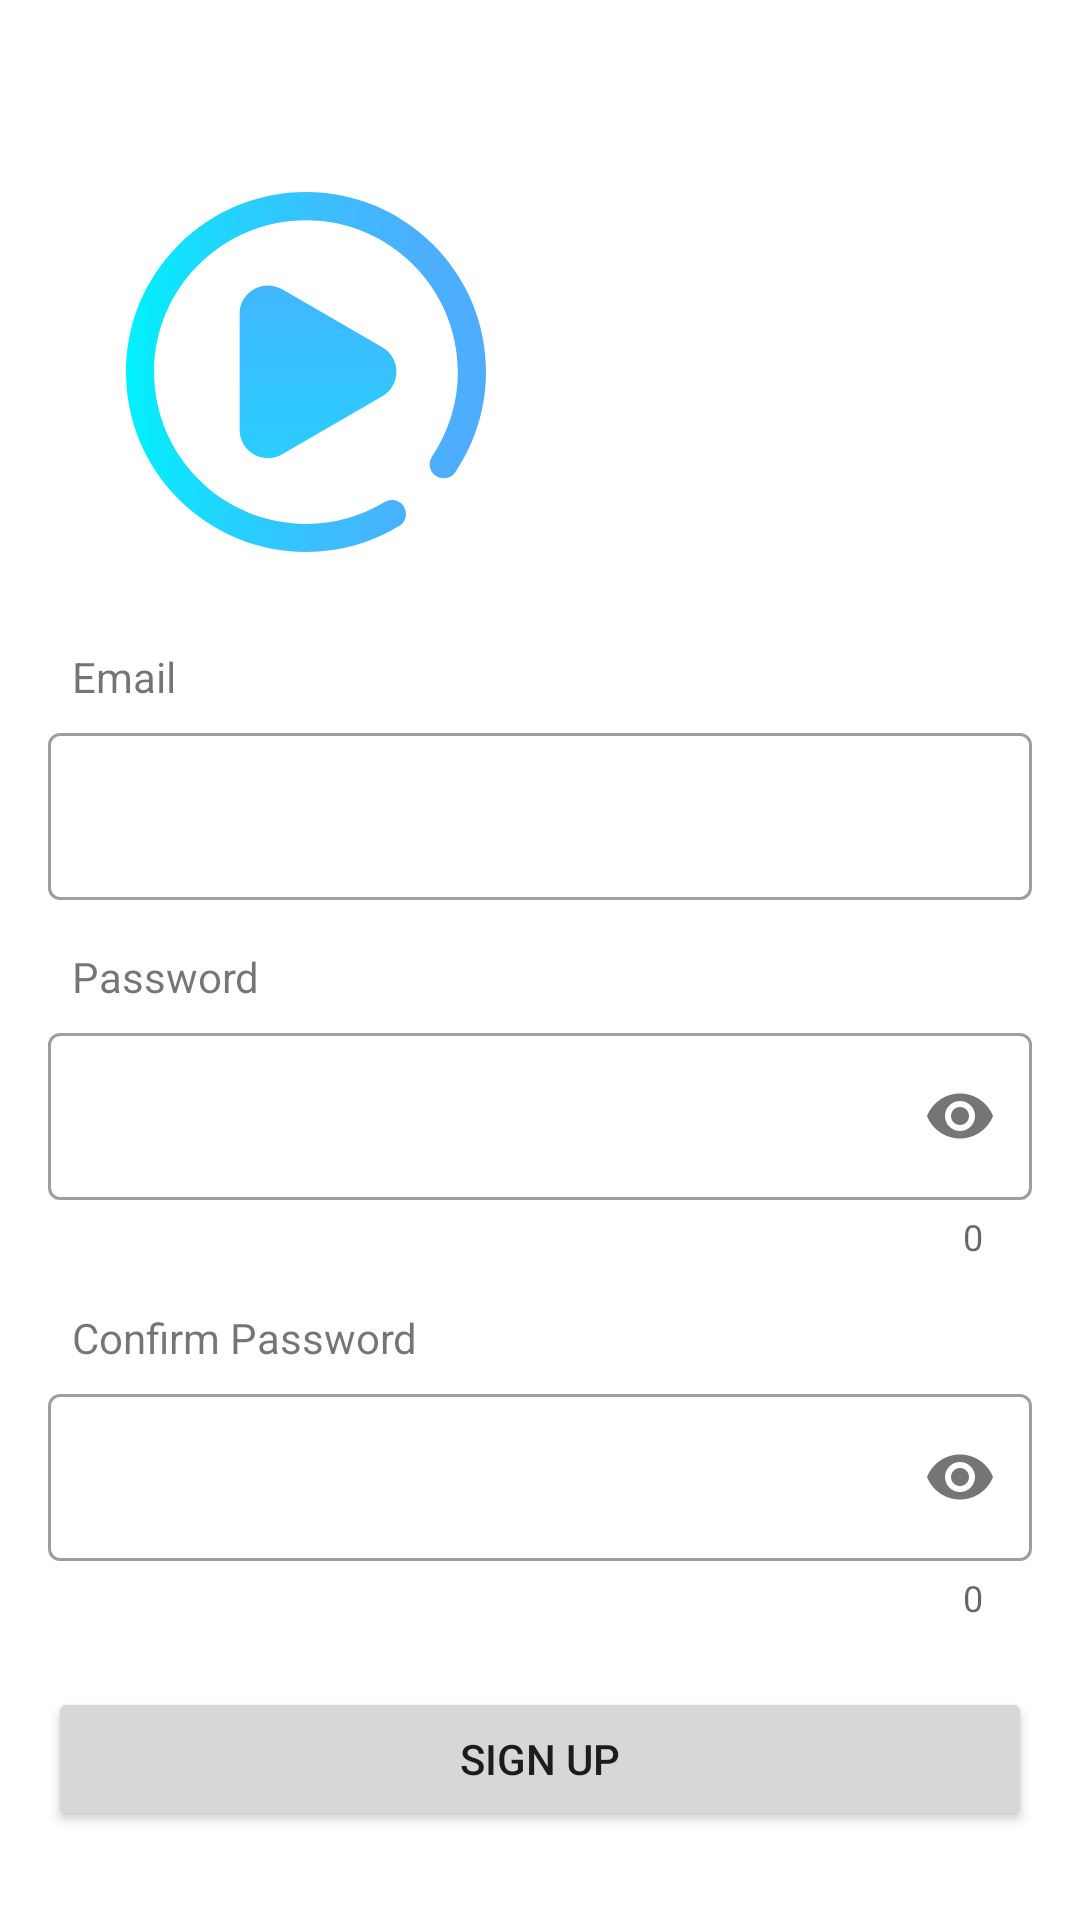

Icon click points for this 1080 x 1920 phone screenshot, format point (x, y):
moviesapp: point (306, 372)
